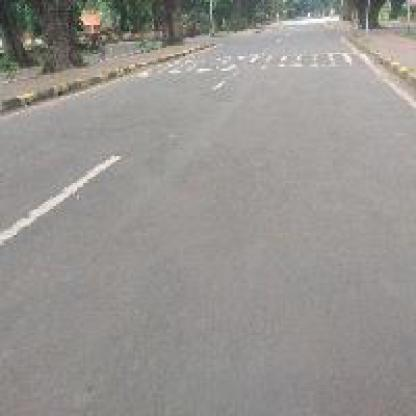Speed Bump: (137, 50, 364, 75)
